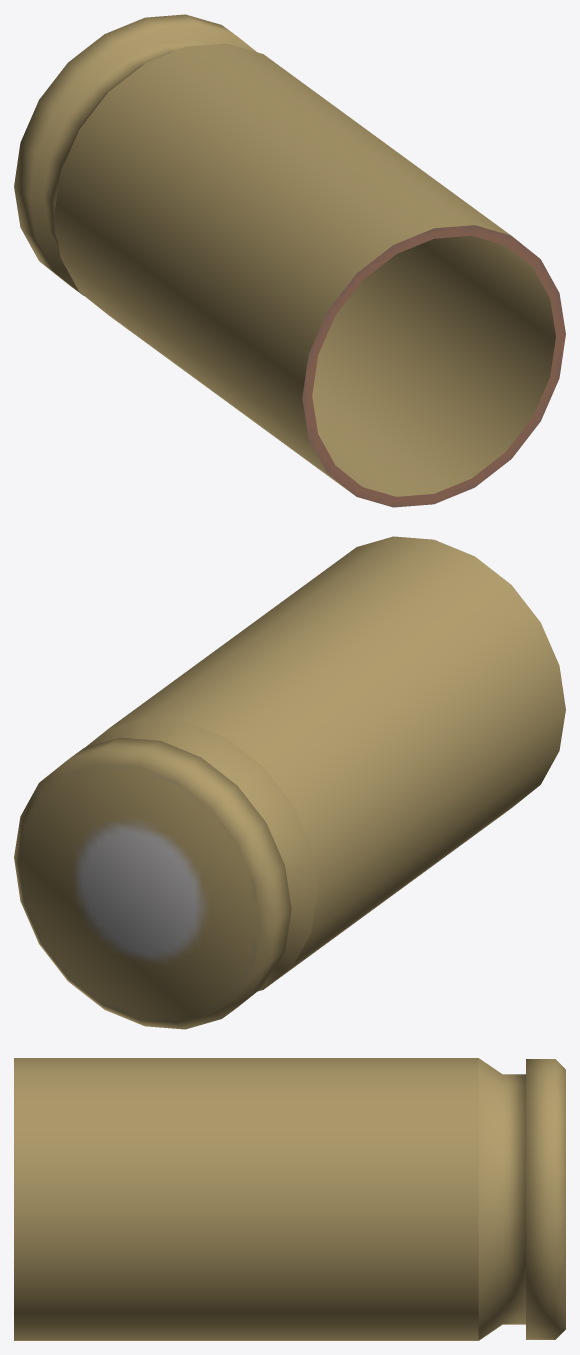
The model's file is Tommy_gun_Sleeve.FBX.
3 renders of one model, top to bottom at view 1: azimuth 30°, elevation 25°; view 2: azimuth 150°, elevation 25°; view 3: azimuth 270°, elevation 25°, orthographic. The views are drawn at different scales.
Visible parts, largest first — view 1: sleeve_Mesh; view 2: sleeve_Mesh; view 3: sleeve_Mesh.
Boxes of the visible parts, x1=… form: sleeve_Mesh: x1=14, y1=14, x2=565, y2=507; sleeve_Mesh: x1=14, y1=536, x2=565, y2=1029; sleeve_Mesh: x1=14, y1=1058, x2=565, y2=1340.
Size of the model in its own units: 1.43 by 1.43 by 2.77.
